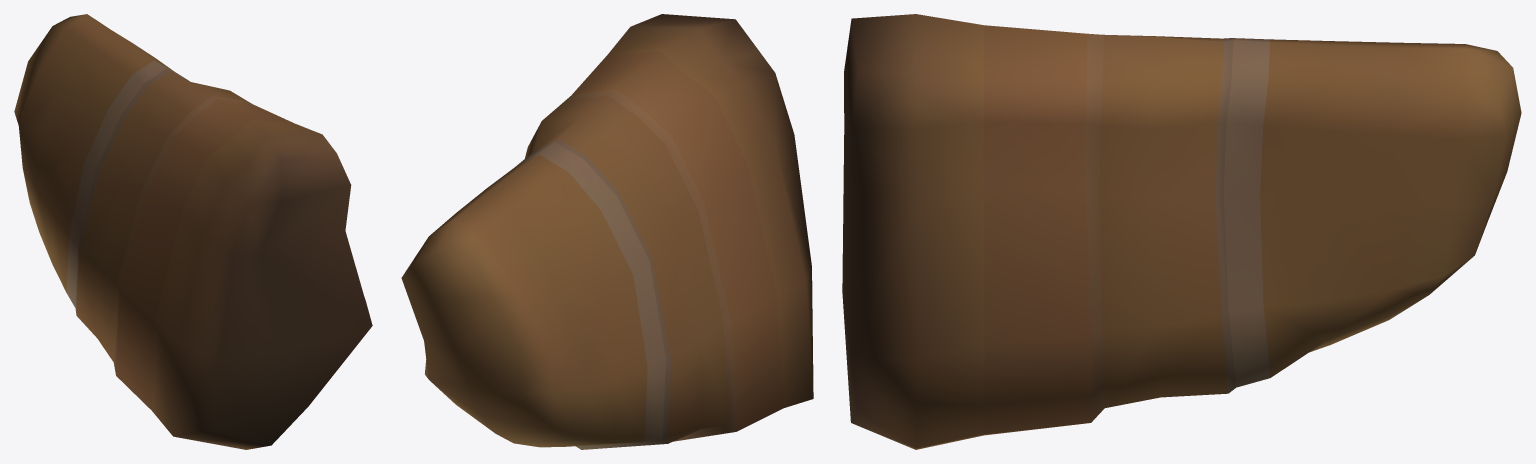
Rendered from SandstoneMesa.002.glb.
3 renders of one model, left to right at view 1: azimuth 30°, elevation 25°; view 2: azimuth 150°, elevation 25°; view 3: azimuth 270°, elevation 25°, orthographic. The views are drawn at different scales.
Visible parts, largest first — view 1: SandstoneMesa.002; view 2: SandstoneMesa.002; view 3: SandstoneMesa.002.
Boxes of the visible parts, x1=… form: SandstoneMesa.002: x1=14, y1=14, x2=372, y2=449; SandstoneMesa.002: x1=401, y1=14, x2=813, y2=449; SandstoneMesa.002: x1=842, y1=14, x2=1521, y2=449.
Bounding box in the file's own units: 2096 × 3211 × 4392.
